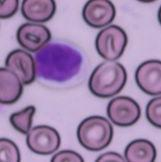L: (31, 38, 88, 89)
